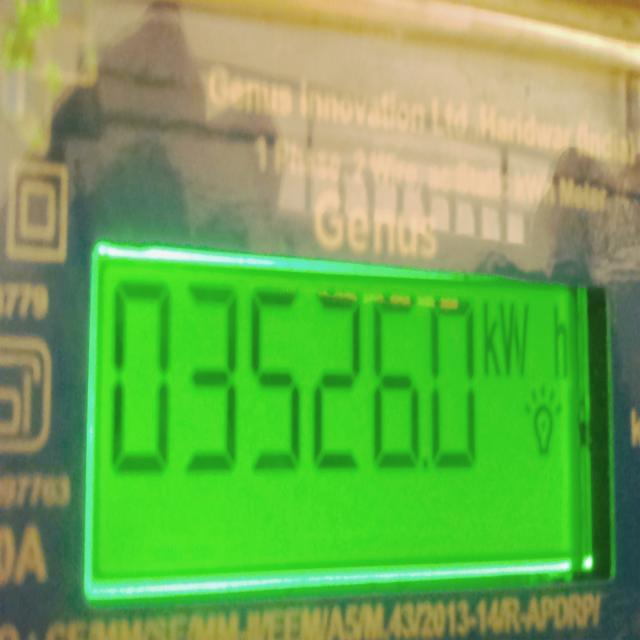LCD: (58, 231, 624, 613)
